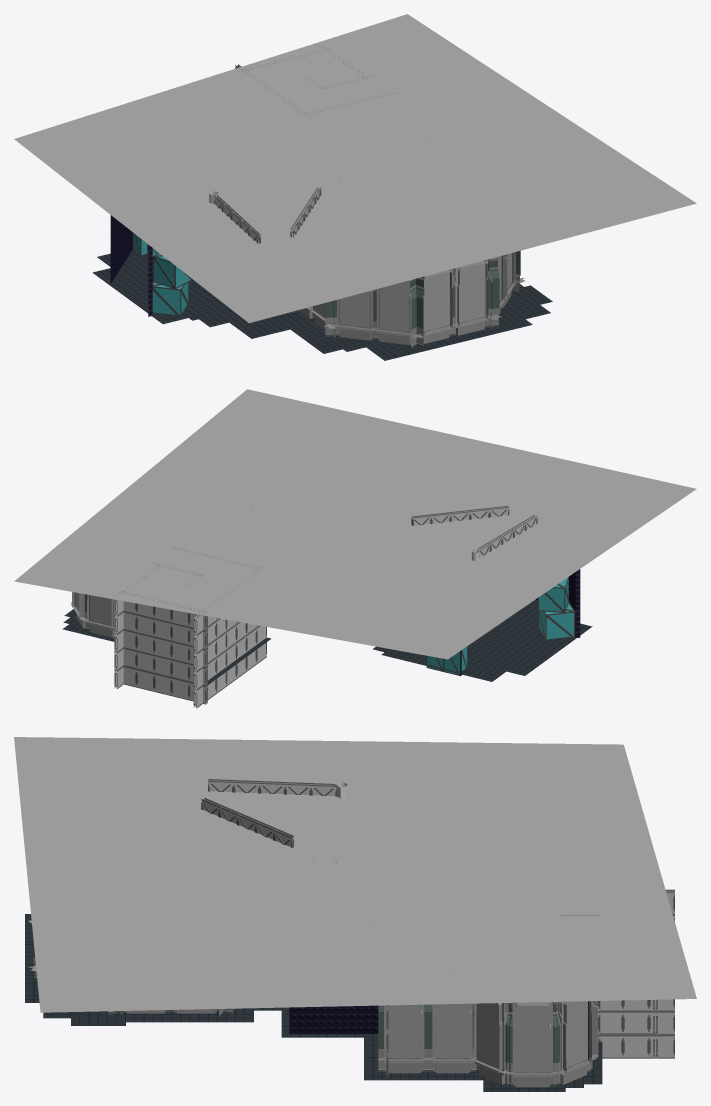
Rendered from Stage7 (2).fbx.
3 renders of one model, top to bottom at view 1: azimuth 30°, elevation 25°; view 2: azimuth 150°, elevation 25°; view 3: azimuth 270°, elevation 25°, orthographic. The views are drawn at different scales.
Parts seen in each view (by area): view 1: 1000, CantGrap.004, Floor.002; view 2: 1000, CantGrap.004, Floor.002; view 3: 1000, CantGrap.004, Floor.002.
Part boxes in pixels (x1,y1,x2,y2): 1000: [14, 14, 696, 323]; CantGrap.004: [110, 46, 525, 348]; Floor.002: [92, 249, 552, 360]; 1000: [14, 389, 696, 659]; CantGrap.004: [71, 505, 580, 708]; Floor.002: [62, 599, 592, 685]; 1000: [14, 737, 696, 1012]; CantGrap.004: [28, 779, 674, 1087]; Floor.002: [25, 914, 656, 1091].
Bounding box in the file's own units: 44356 × 9609 × 46435.
